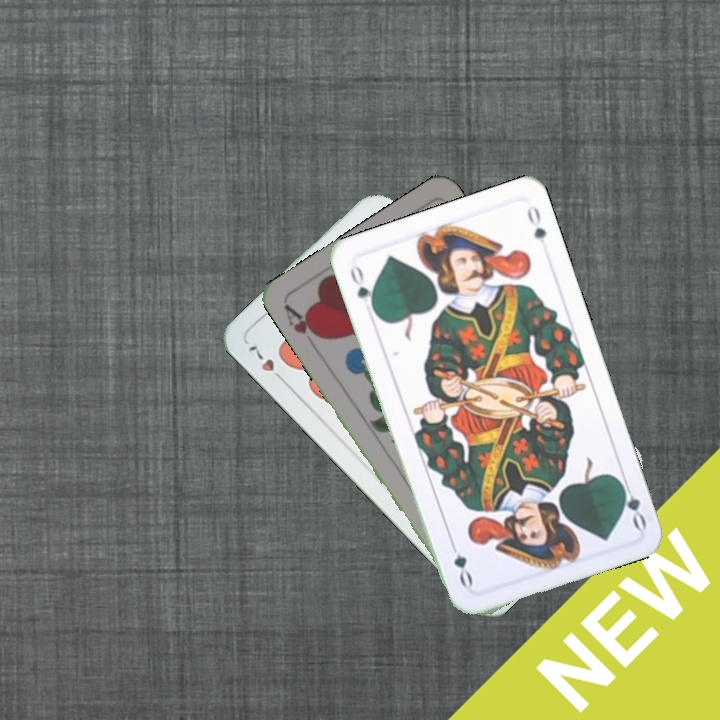GO: (614, 474, 650, 532), (345, 260, 379, 316)
H7: (244, 341, 289, 386)
HA: (280, 301, 326, 343)
